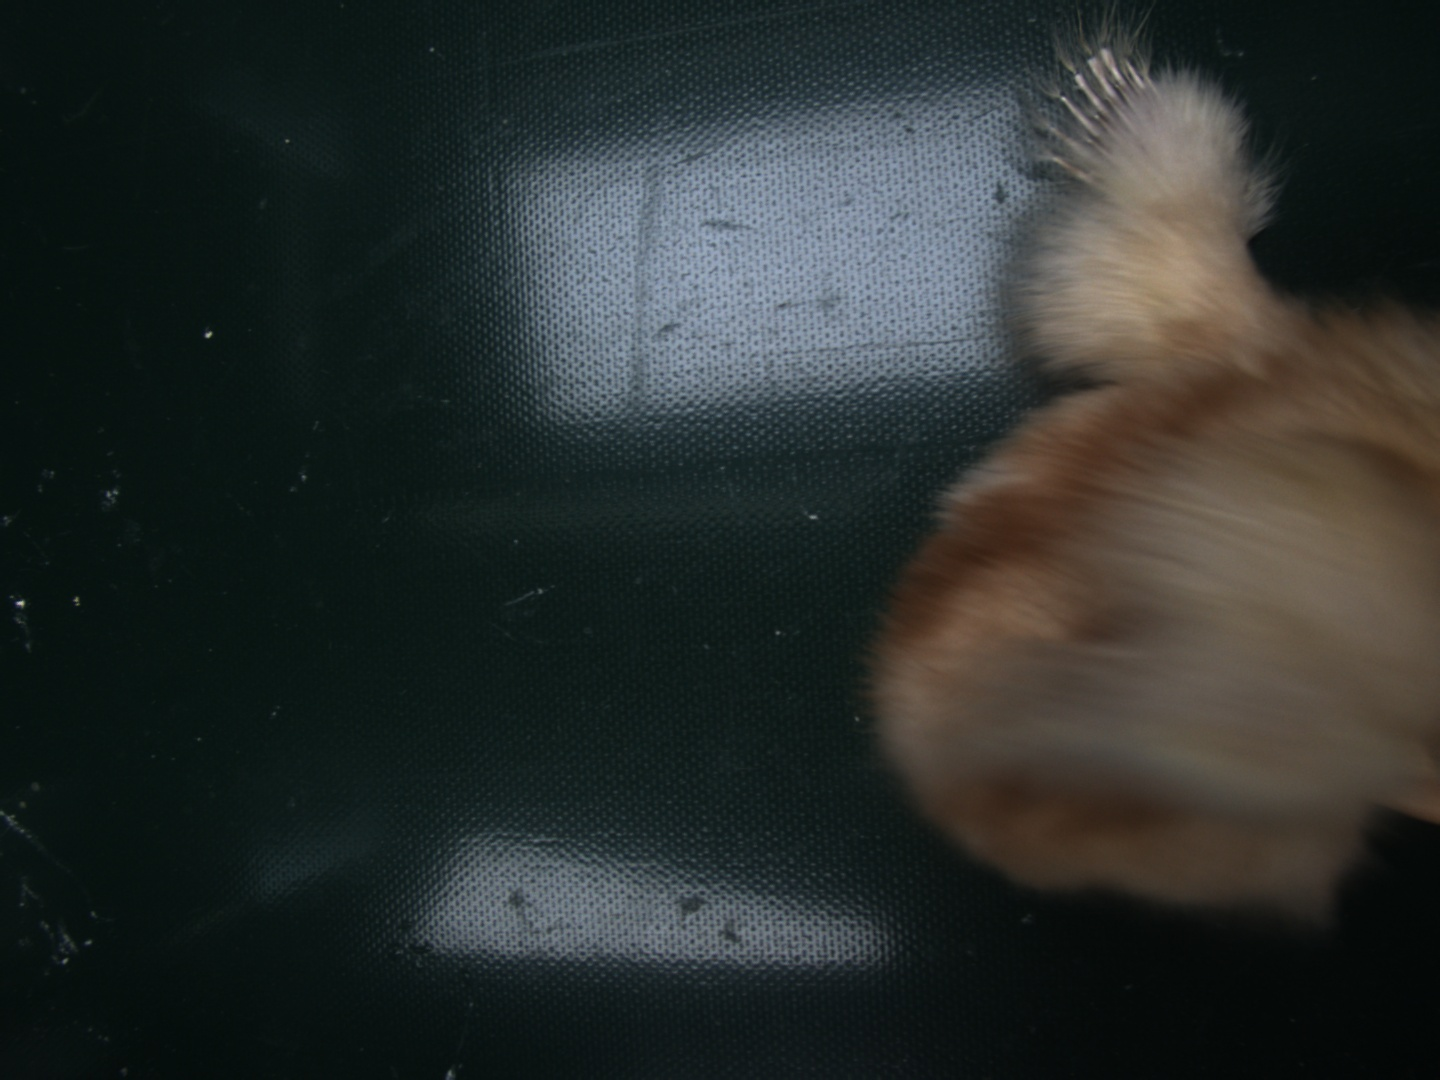female: (1041, 50, 1160, 187)
